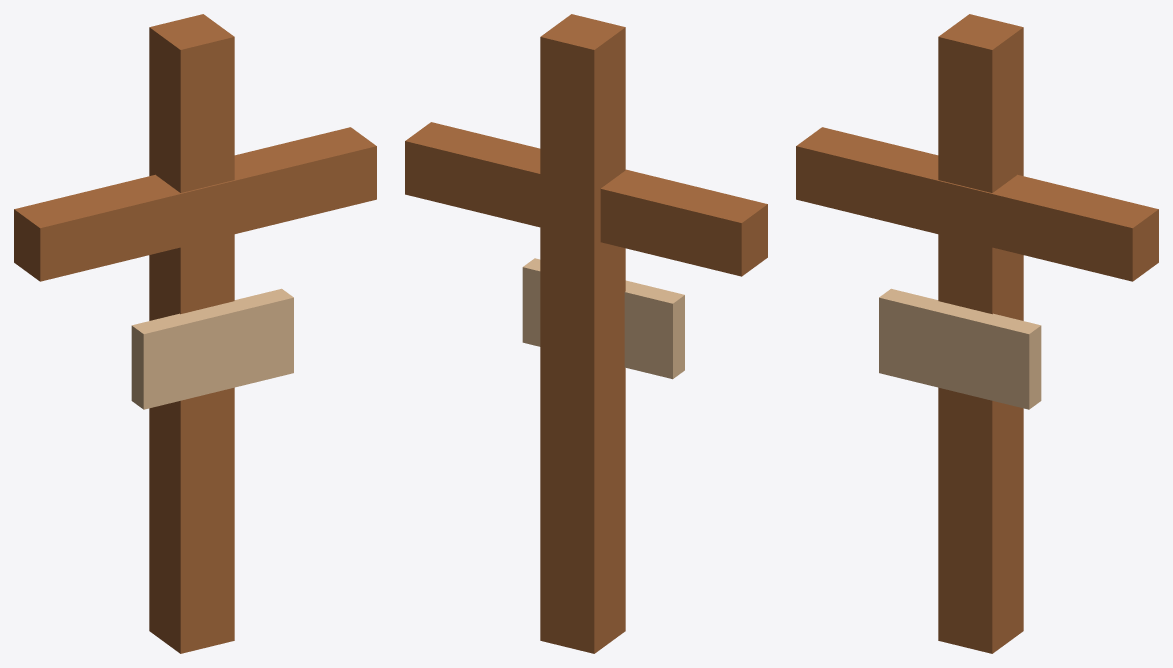
3 renders of one model, left to right at view 1: azimuth 30°, elevation 25°; view 2: azimuth 150°, elevation 25°; view 3: azimuth 330°, elevation 25°, orthographic.
Visible parts, largest first — view 1: body; view 2: body; view 3: body.
Boxes of the visible parts, x1=… form: body: x1=14, y1=14, x2=376, y2=653; body: x1=405, y1=14, x2=767, y2=653; body: x1=796, y1=14, x2=1158, y2=653.
Size of the model in its own units: 0.56 by 0.96 by 0.1225.
